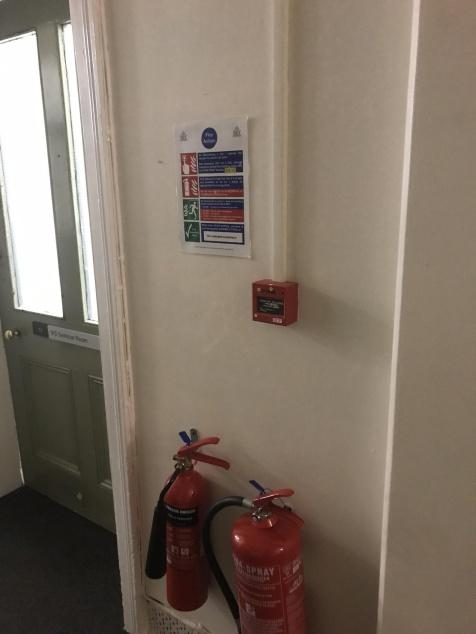APAR: (161, 437, 228, 613), (230, 487, 306, 633)
